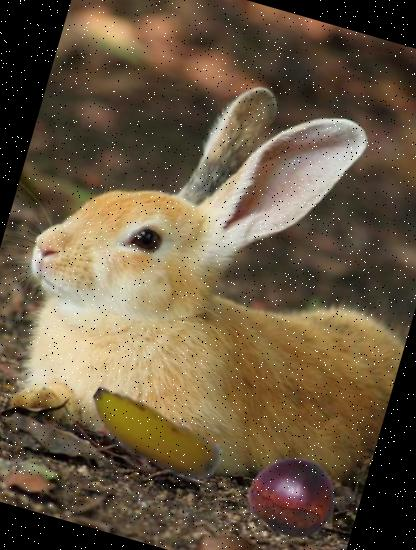Banana: (63, 347, 242, 525)
Chestnut: (240, 442, 349, 550)
